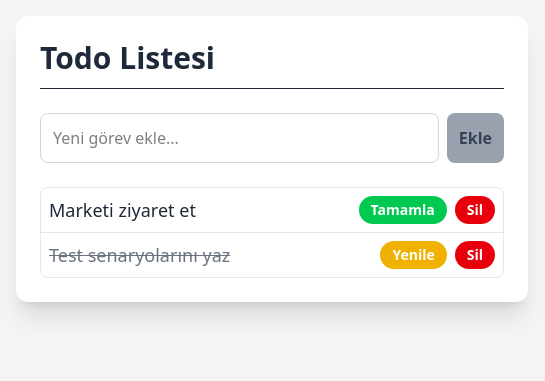
Scenario: template spec › inputta yeni görev yazılıp Ekle butonu ile eklendiğinde liste güncelleniyor mu
Type "Fatura edemesin yapıldı" into the field with test id "new-todo-input" at x=240, y=138, box [40,113,439,163]
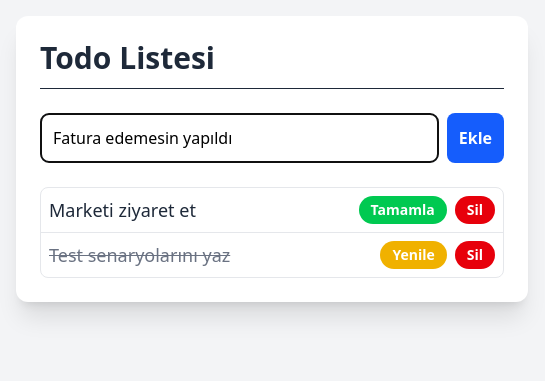
Now the button with test id "add-todo-button" is enabled
Click the button with test id "add-todo-button" at x=476, y=138, box [447,113,504,163]
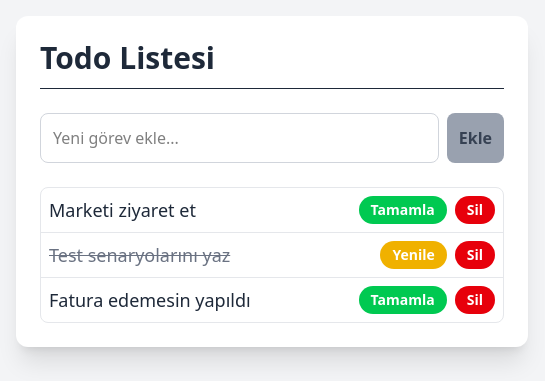
Now the number of list items is 3, box [41,188,503,233]; [41,233,503,278]; [41,278,503,322]
Now the text "Fatura edemesin yapıldı" is shown, box [49,286,251,314]
